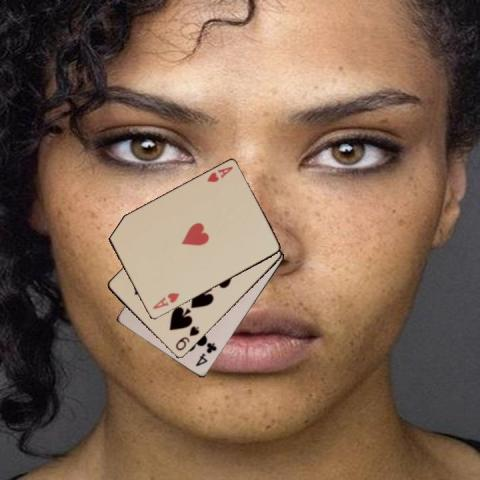4c: (193, 340, 218, 369)
9s: (172, 323, 200, 352)
Ah: (149, 290, 181, 311), (204, 163, 234, 184)
